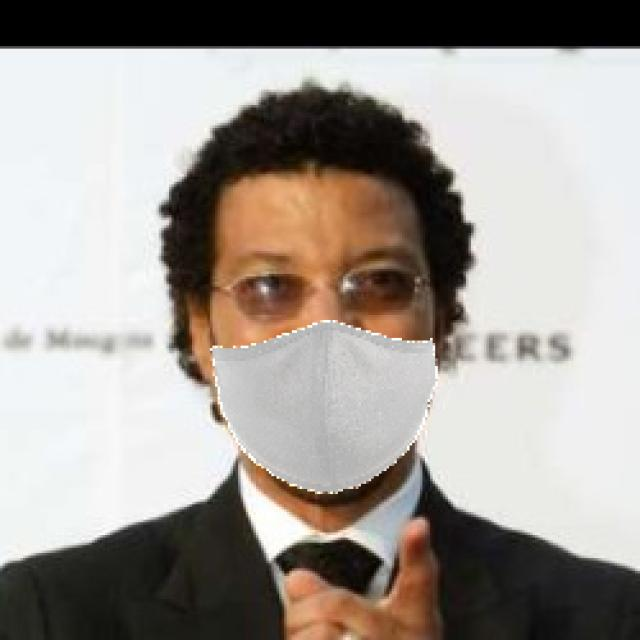mask: (198, 320, 463, 490)
